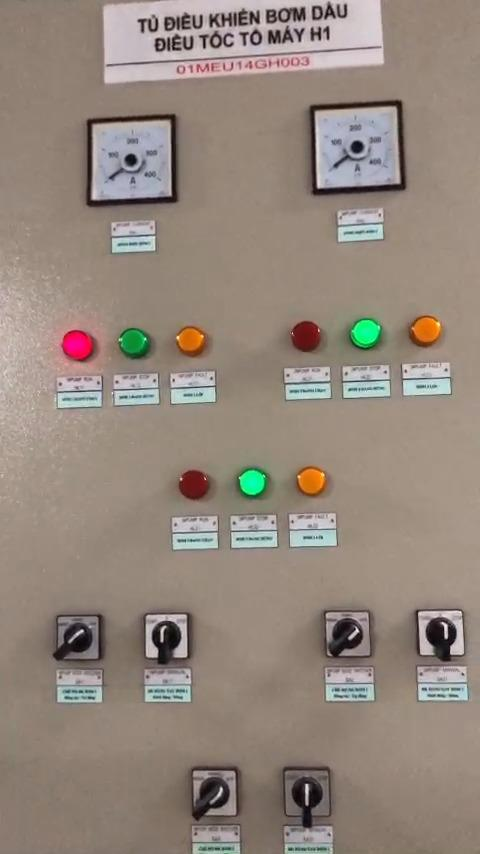led: (287, 320, 323, 355), (177, 469, 213, 504), (59, 331, 97, 364), (349, 318, 385, 352), (119, 328, 155, 362), (235, 468, 269, 504), (294, 462, 328, 497), (176, 325, 208, 359), (410, 316, 440, 349)
twist: (143, 611, 193, 663), (282, 768, 329, 822), (327, 609, 375, 661), (55, 611, 103, 663), (192, 770, 239, 820), (420, 609, 466, 660)
